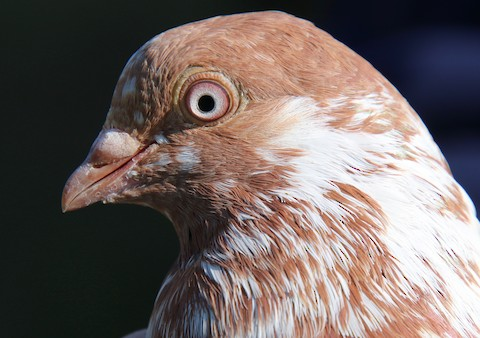pigeon: (59, 9, 477, 331)
